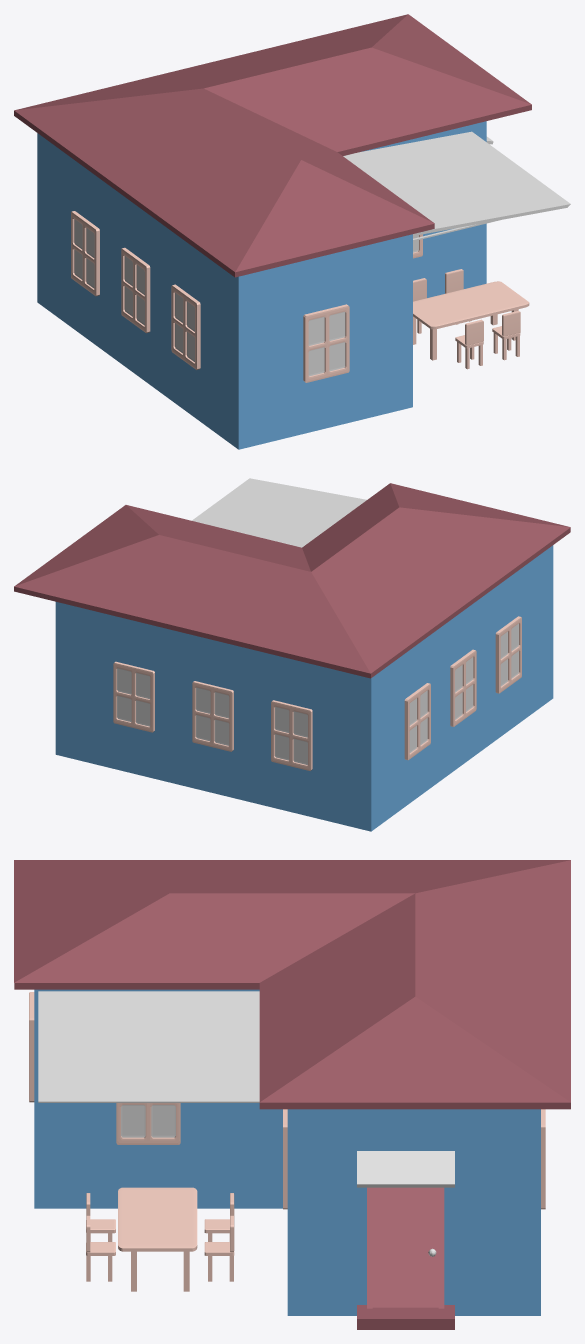
File: House_Variant.fbx
3 renders of one model, top to bottom at view 1: azimuth 30°, elevation 25°; view 2: azimuth 150°, elevation 25°; view 3: azimuth 270°, elevation 25°, orthographic. The views are drawn at different scales.
Parts seen in each view (by area): view 1: Roof, Cube, Cube.013, DiningTable.001, Cube.012, Cube.010, Cube.009, Cube.011, DiningChair.003, DiningChair.001; view 2: Cube, Roof, Cube.013, Cube.005, Cube.008, Cube.007, Cube.009, Cube.011, Cube.010; view 3: Roof, Cube, Cube.013, Cube.002, DiningTable.001, Cube.004, Cube.006, Cube.001, DiningChair.002, DiningChair.003, Cube.012.
Part boxes in pixels (x1,y1,x2,y2): Roof: (14,14,531,277); Cube: (37,121,486,449); Cube.013: (343,131,570,241); DiningTable.001: (413,281,529,360); Cube.012: (303,304,349,382); Cube.010: (121,247,150,333); Cube.009: (171,284,200,369); Cube.011: (71,211,99,296); DiningChair.003: (492,310,520,360); DiningChair.001: (455,319,483,369); Cube: (55,545,553,831); Roof: (14,483,570,678); Cube.013: (192,478,366,547); Cube.005: (113,661,154,732); Cube.008: (271,700,312,770); Cube.007: (192,681,233,751); Cube.009: (495,616,521,693); Cube.011: (404,683,430,760); Cube.010: (450,649,476,726); Roof: (14,860,570,1109); Cube: (34,989,540,1315); Cube.013: (38,991,259,1102); Cube.002: (367,1187,444,1308); DiningTable.001: (118,1187,197,1291); Cube.004: (357,1151,454,1187); Cube.006: (116,1103,180,1144); Cube.001: (357,1305,454,1329); DiningChair.002: (204,1215,234,1281); DiningChair.003: (86,1215,115,1281); Cube.012: (29,992,34,1102).
Bounding box in the file's own units: 4361 × 2346 × 4233.
